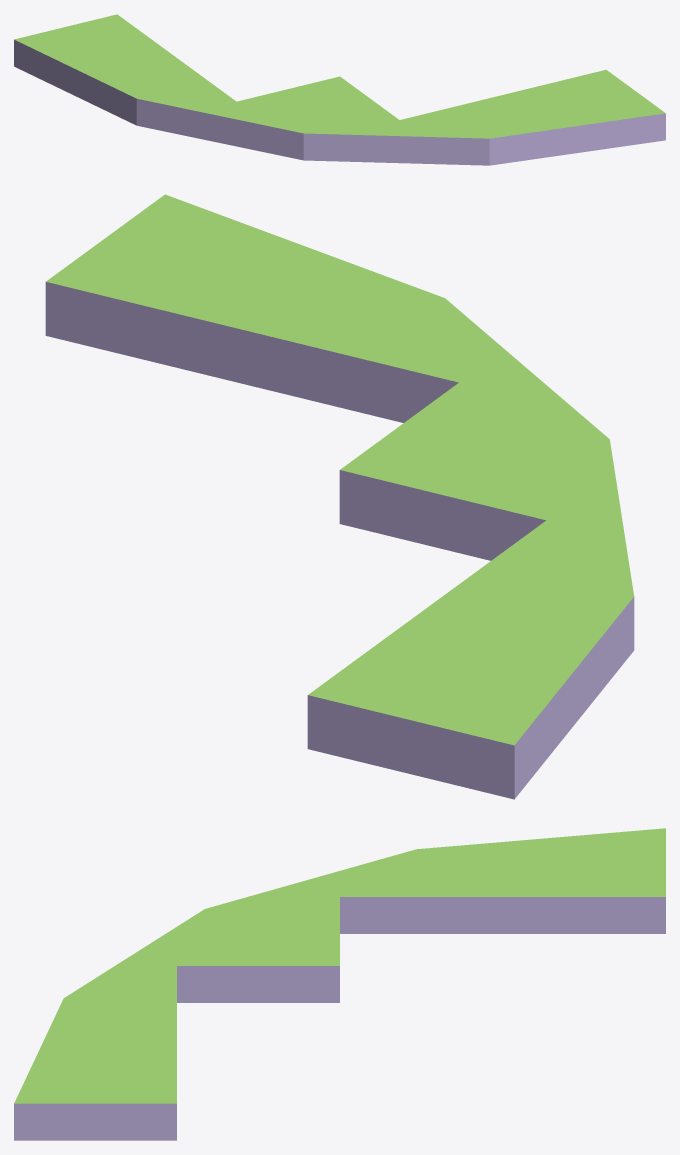
File: Tiered_Grass_Curve_Outer_4x4.glb
The picture shows the model from 3 angles, top to bottom: view 1: azimuth 30°, elevation 25°; view 2: azimuth 150°, elevation 25°; view 3: azimuth 270°, elevation 25°; orthographic projection. The views are drawn at different scales.
Visible parts, largest first — view 1: Tiered_Grass_Curve_Outer_4x4; view 2: Tiered_Grass_Curve_Outer_4x4; view 3: Tiered_Grass_Curve_Outer_4x4.
Part boxes in pixels (bbox=[...]): Tiered_Grass_Curve_Outer_4x4: bbox=[14, 14, 665, 165]; Tiered_Grass_Curve_Outer_4x4: bbox=[45, 194, 634, 799]; Tiered_Grass_Curve_Outer_4x4: bbox=[14, 828, 665, 1140].
Bounding box in the file's own units: 400 × 25 × 400.
